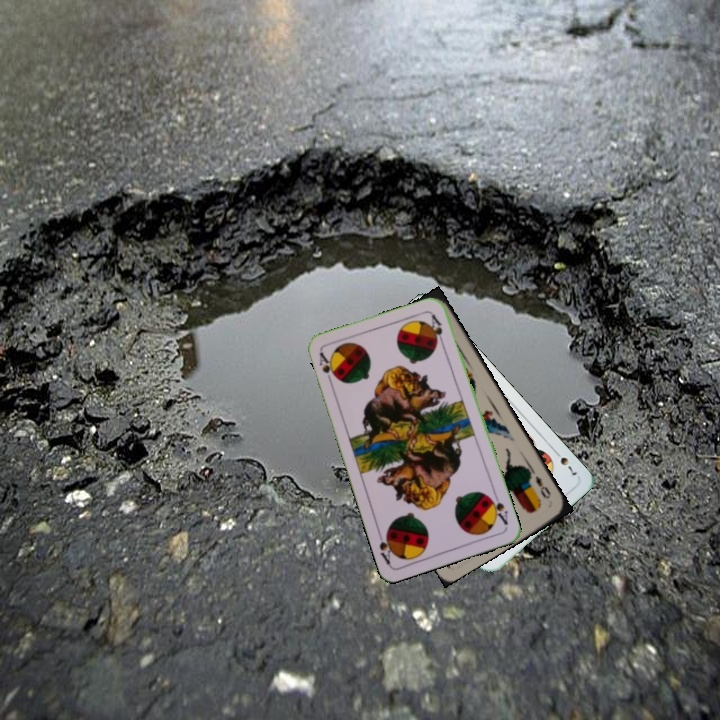EO: (531, 472, 553, 501)
S7: (550, 446, 580, 478)
SA: (485, 489, 511, 528), (315, 348, 340, 387)
